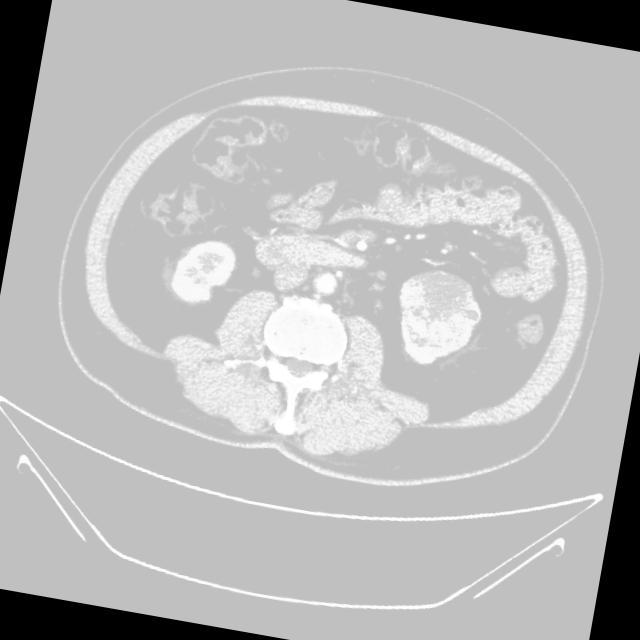TUMOR: (245, 160, 606, 394)
